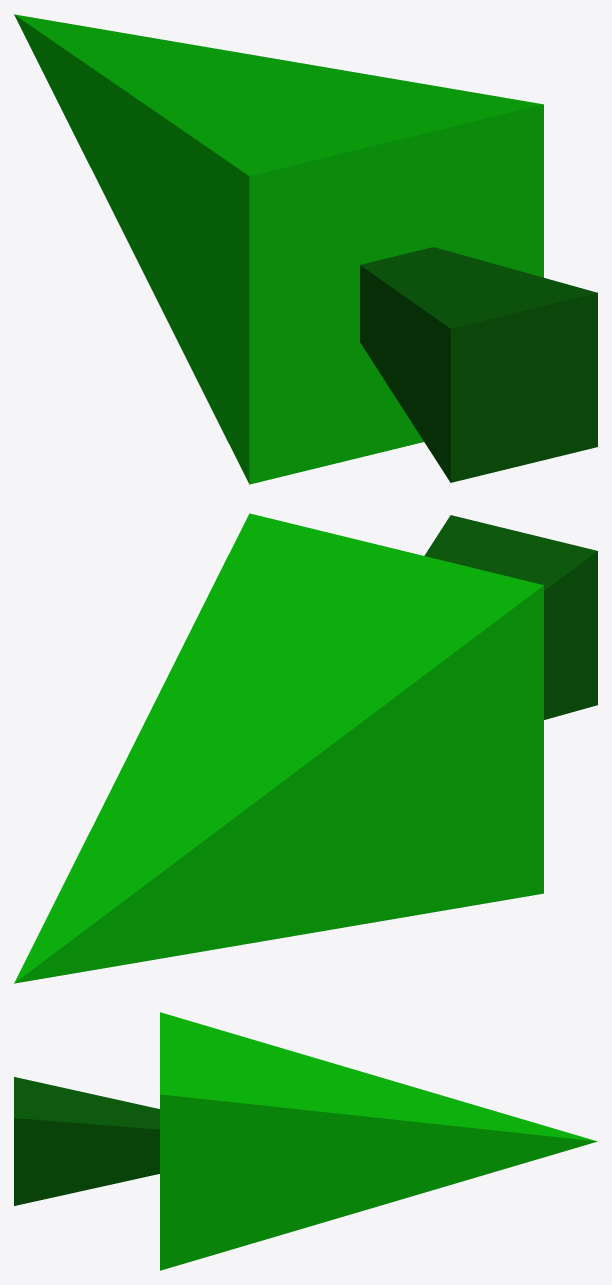
Rendered from Tree2FBX.fbx.
3 renders of one model, top to bottom at view 1: azimuth 30°, elevation 25°; view 2: azimuth 150°, elevation 25°; view 3: azimuth 270°, elevation 25°, orthographic. The views are drawn at different scales.
Parts seen in each view (by area): view 1: Cube; view 2: Cube; view 3: Cube.
Part boxes in pixels (<box>): Cube: <box>14,14,597,484</box>; Cube: <box>14,513,597,983</box>; Cube: <box>14,1012,597,1270</box>.
Bounding box in the file's own units: 400 × 400 × 1200.
